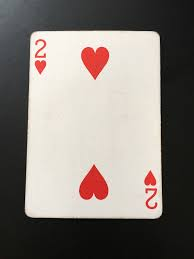two of hearts: (25, 31, 163, 218)
